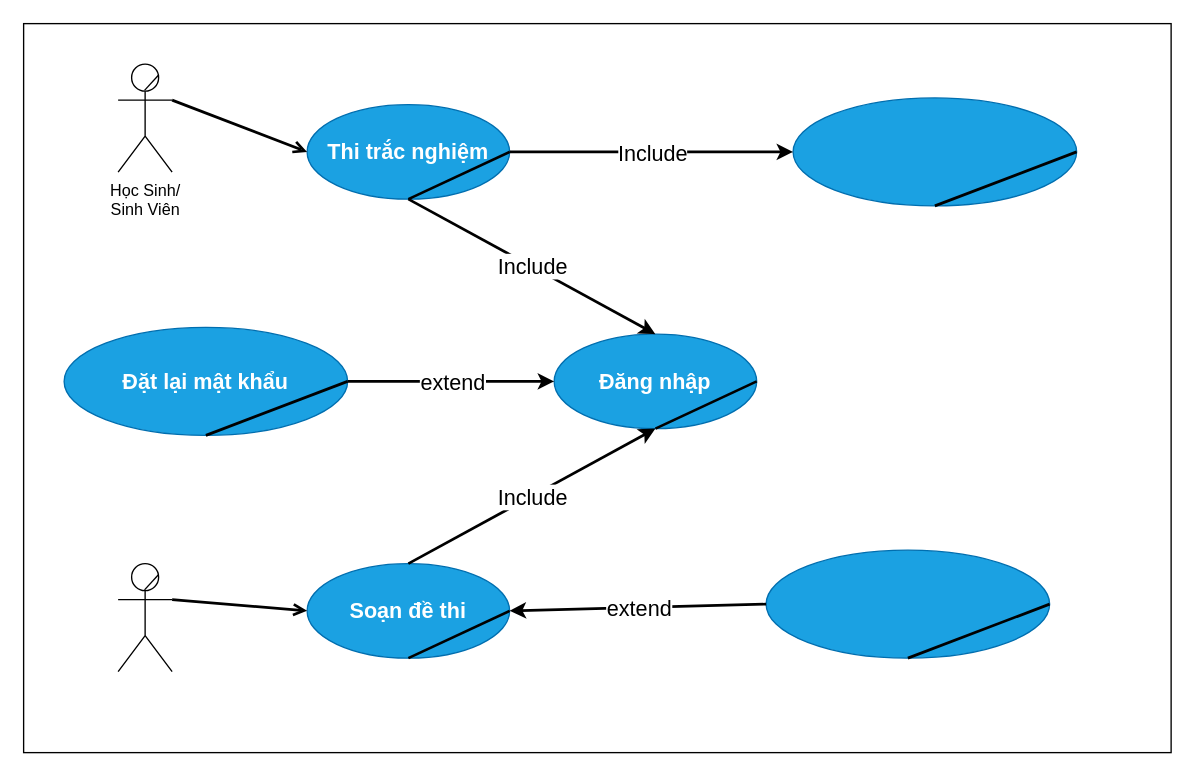
The diagram is 1195 pixels wide and 776 high, and some of its shapes have lost their labels. Each missing label, with the centre of its shape:
"Chỉnh sửa câu hỏi" goes at point (907, 603).
"Giáo Viên" goes at point (144, 617).
"Ký tên xác nhận" goes at point (934, 151).
